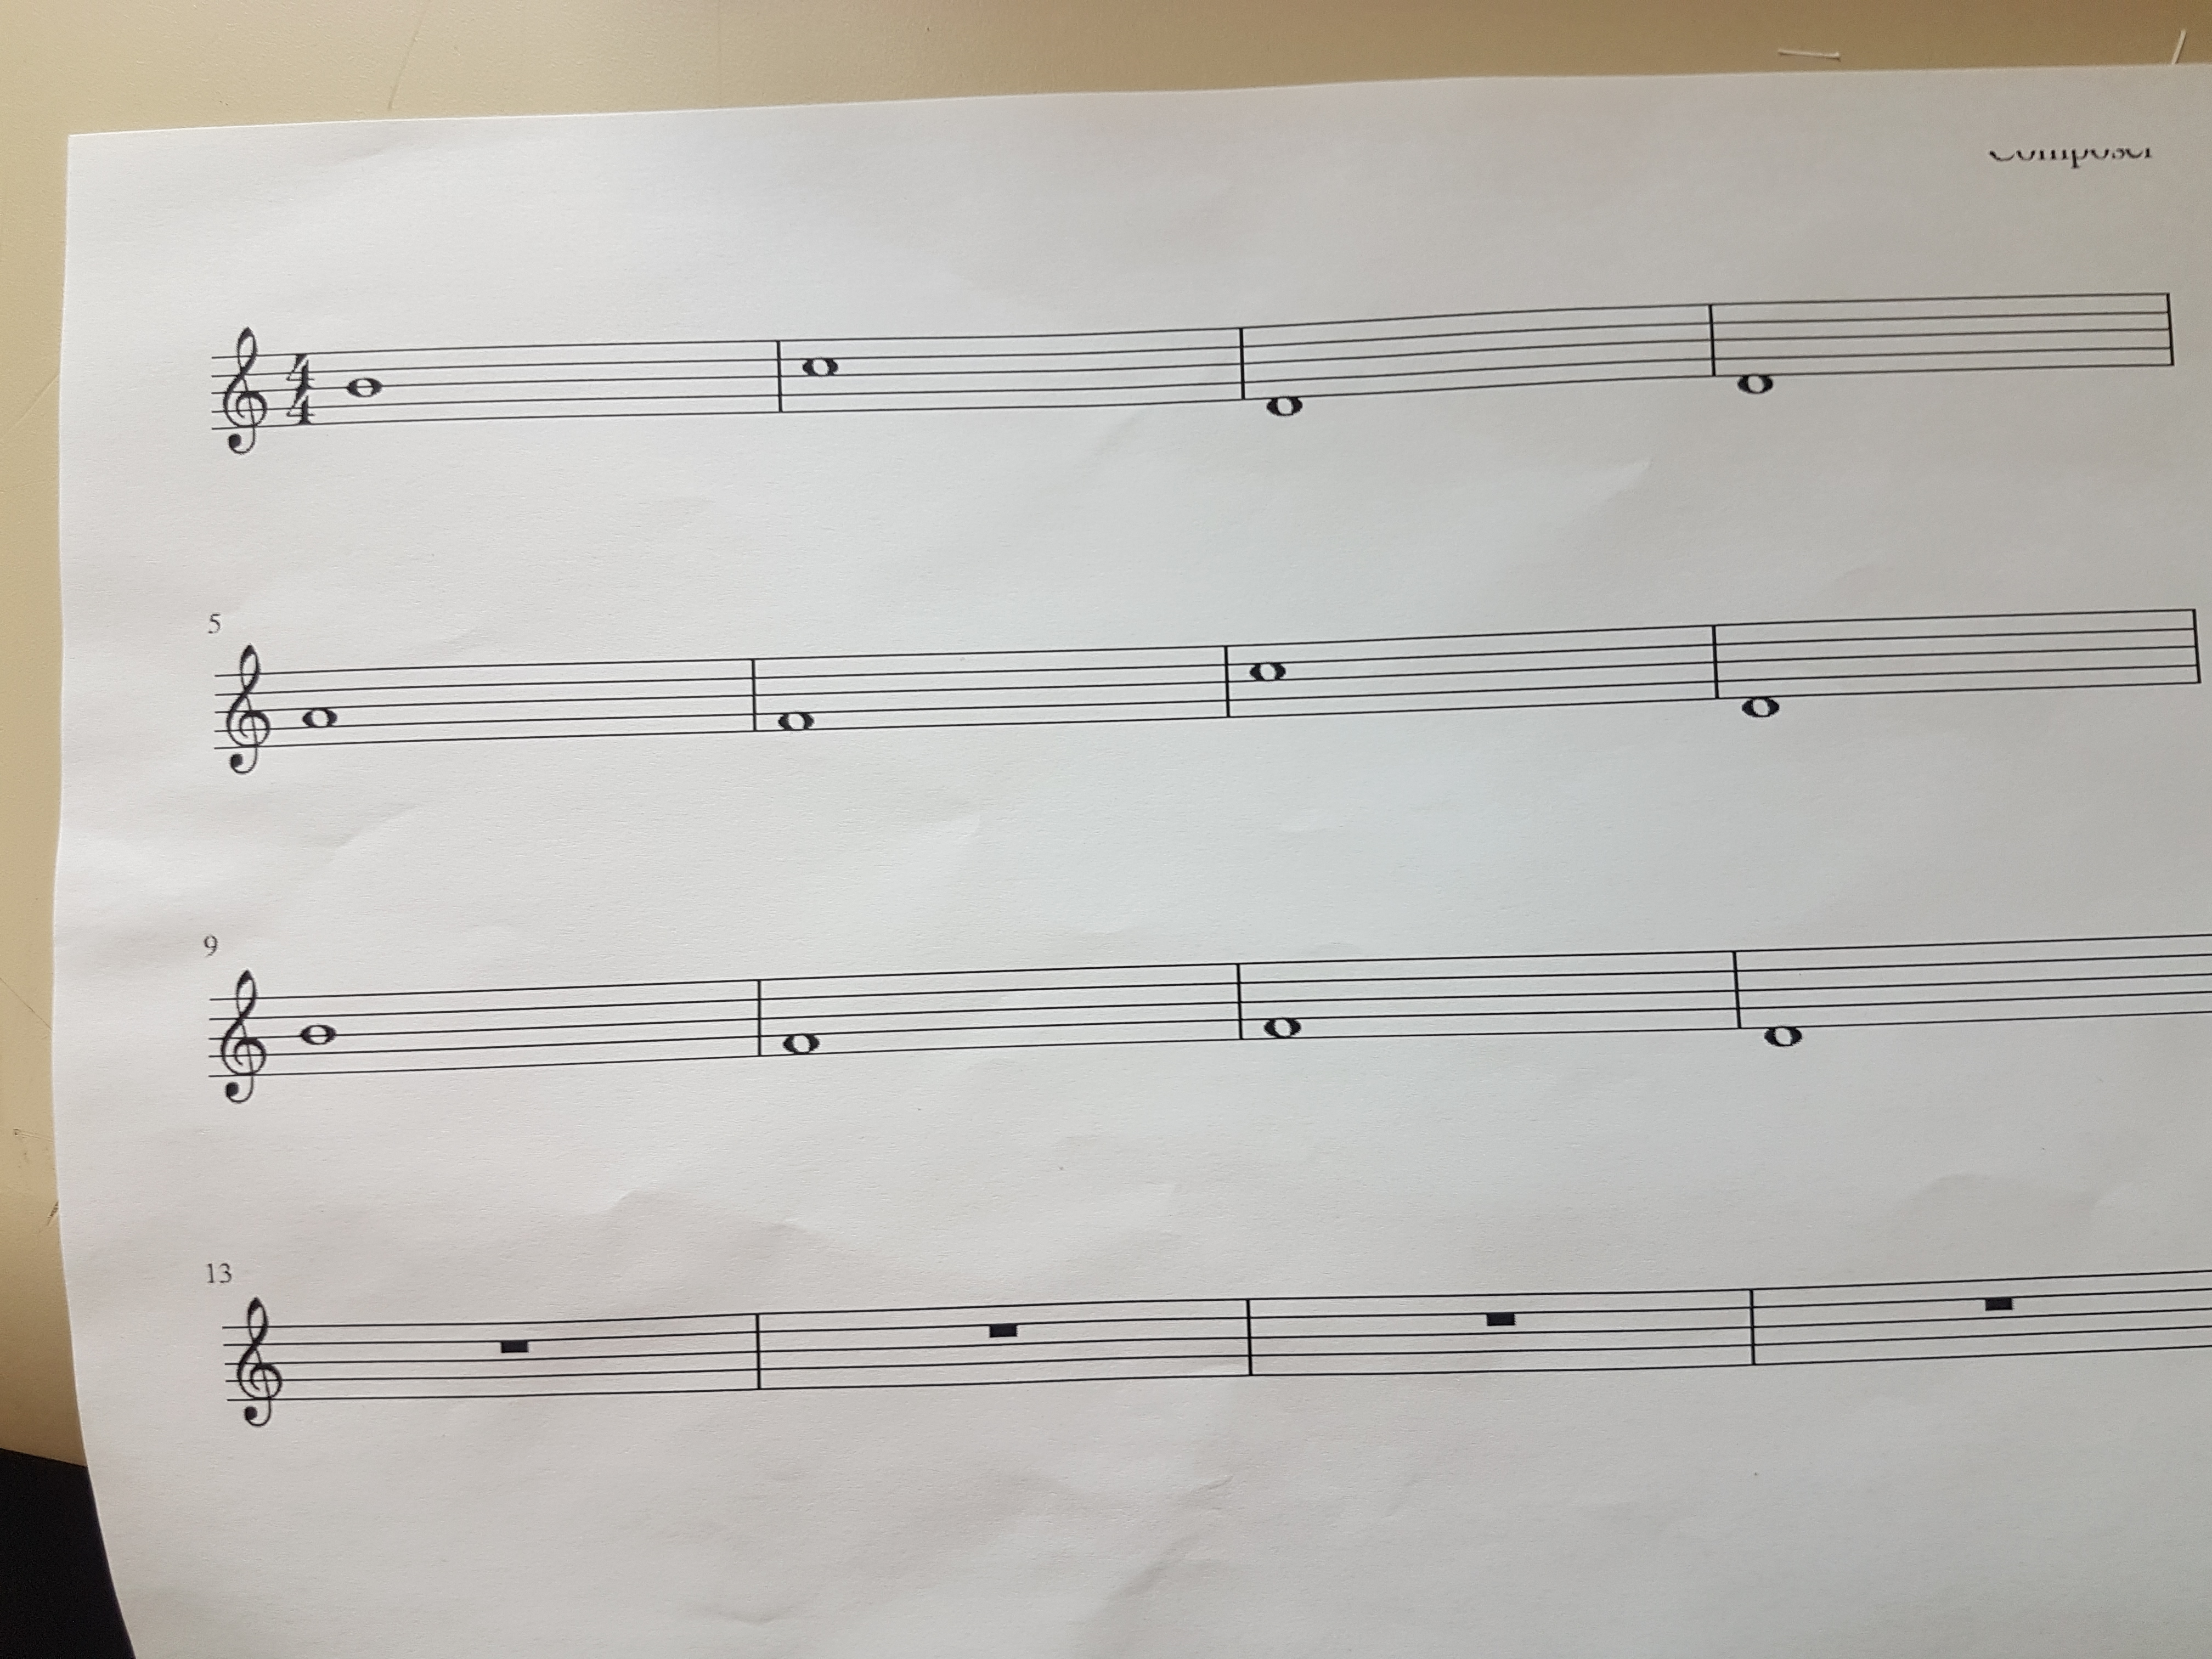key: (214, 958, 272, 1117), (225, 1290, 286, 1438), (214, 315, 272, 467), (216, 640, 275, 784)
pipe: (1224, 948, 1254, 1051), (1742, 1276, 1768, 1382), (745, 969, 772, 1068), (749, 1302, 773, 1405), (1214, 629, 1238, 730), (1723, 939, 1747, 1039), (1240, 1288, 1264, 1387), (1230, 315, 1254, 410), (1700, 291, 1724, 385), (1703, 612, 1726, 709), (742, 643, 763, 744), (766, 331, 789, 422)
semibreve_a: (294, 645, 343, 772)
semibreve_c: (798, 312, 846, 430), (1245, 619, 1289, 735)
semibreve_d: (1757, 918, 1806, 1070), (1256, 303, 1308, 441), (1731, 601, 1784, 739), (1728, 282, 1780, 418)
semibreve_f: (770, 631, 815, 760), (777, 957, 824, 1079), (1259, 941, 1303, 1065)
semibreve_h: (334, 328, 392, 443), (294, 971, 341, 1096)
